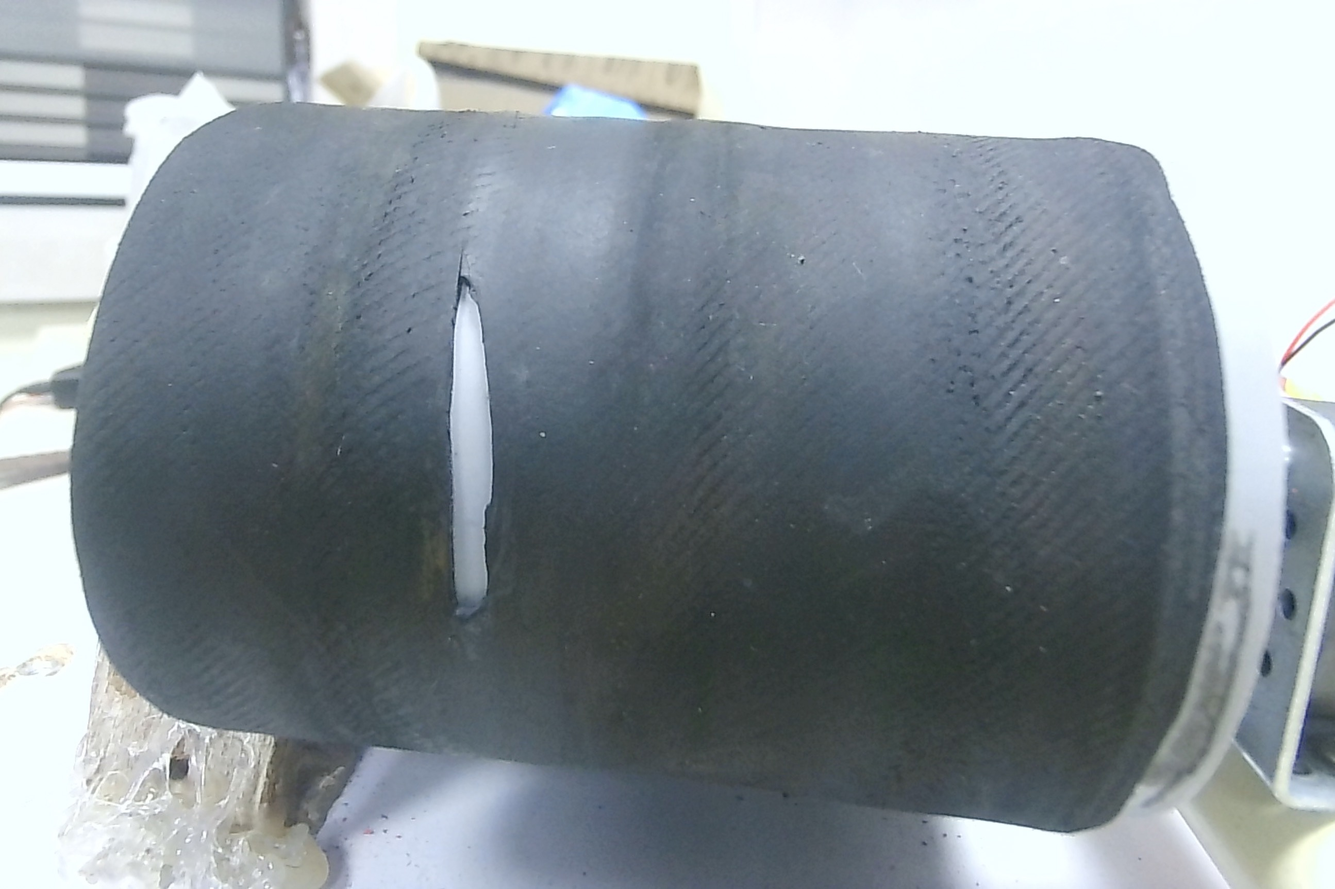tear: (427, 250, 526, 631)
